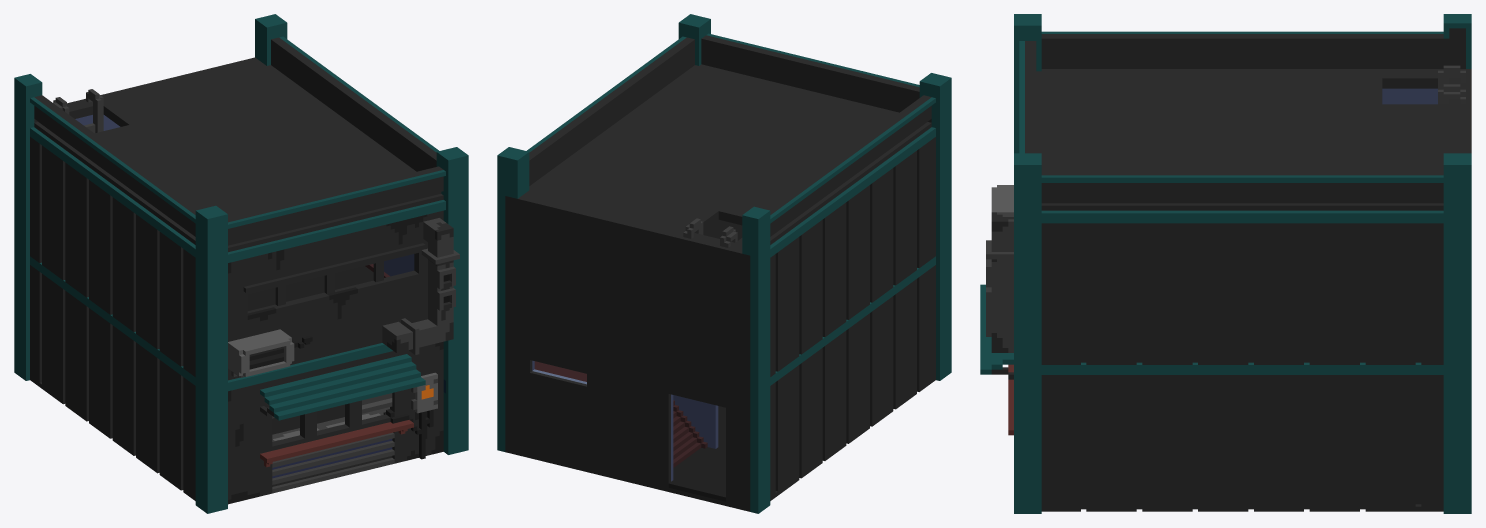
File: MiniStore0.obj
3 renders of one model, left to right at view 1: azimuth 30°, elevation 25°; view 2: azimuth 150°, elevation 25°; view 3: azimuth 270°, elevation 25°, orthographic. The views are drawn at different scales.
Size of the model in its own units: 6.4 by 6.9 by 8.8.
1 material, 1 textured.
